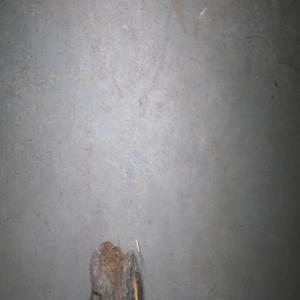Rock: (89, 234, 142, 300)
